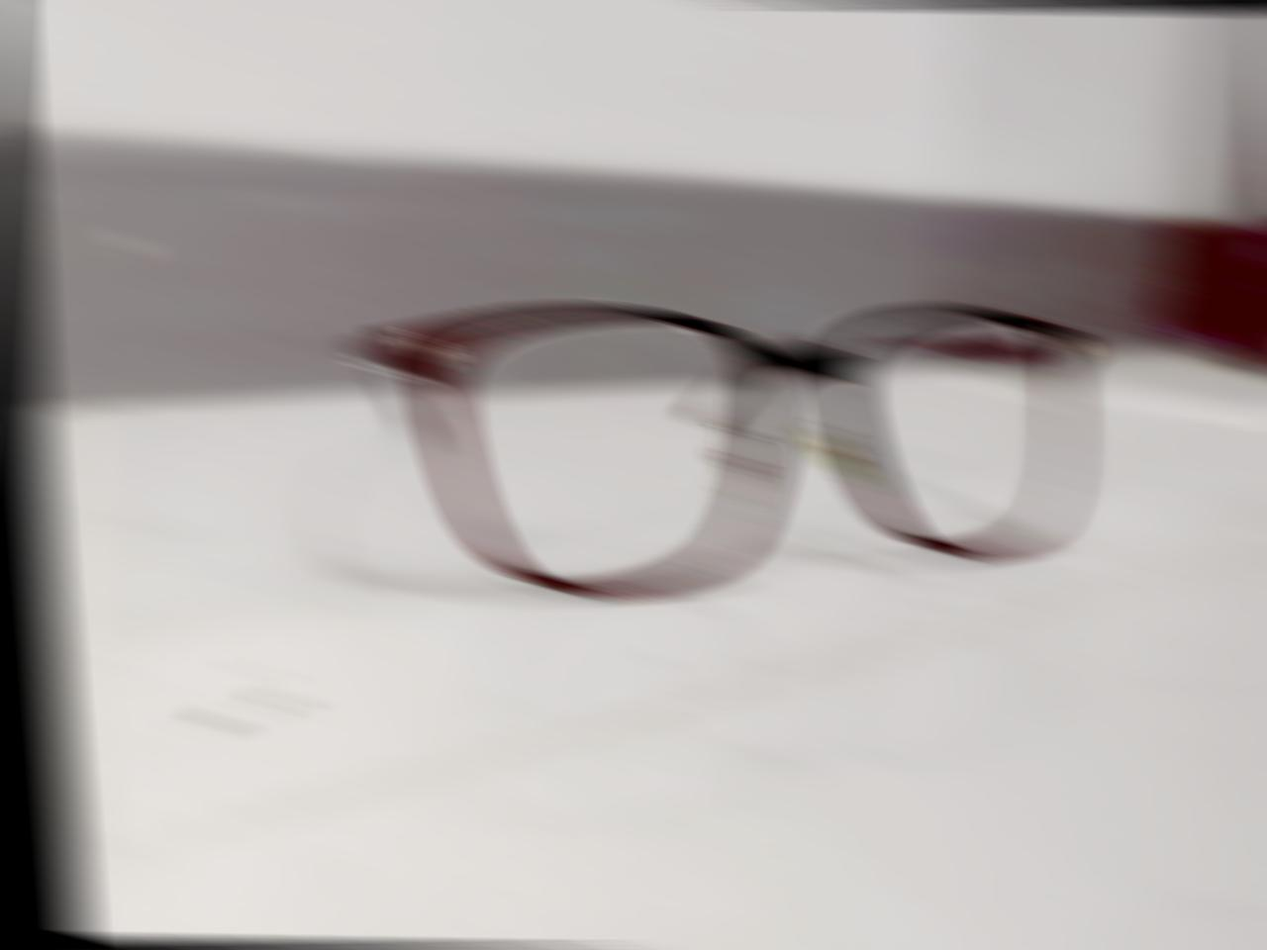glasses: (324, 282, 1145, 613)
